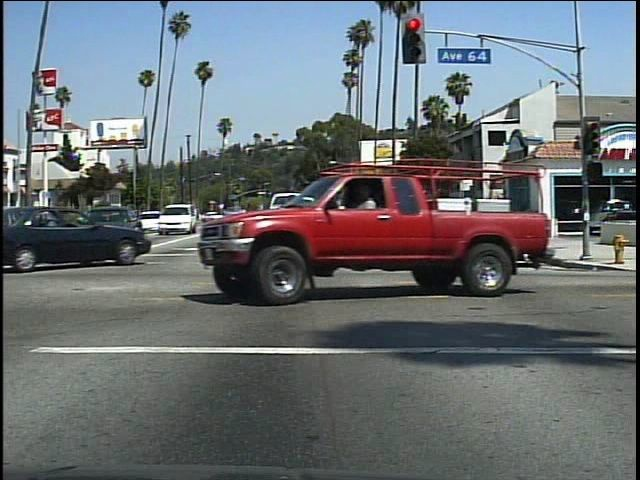person: (350, 177, 390, 292), (475, 200, 499, 236)
